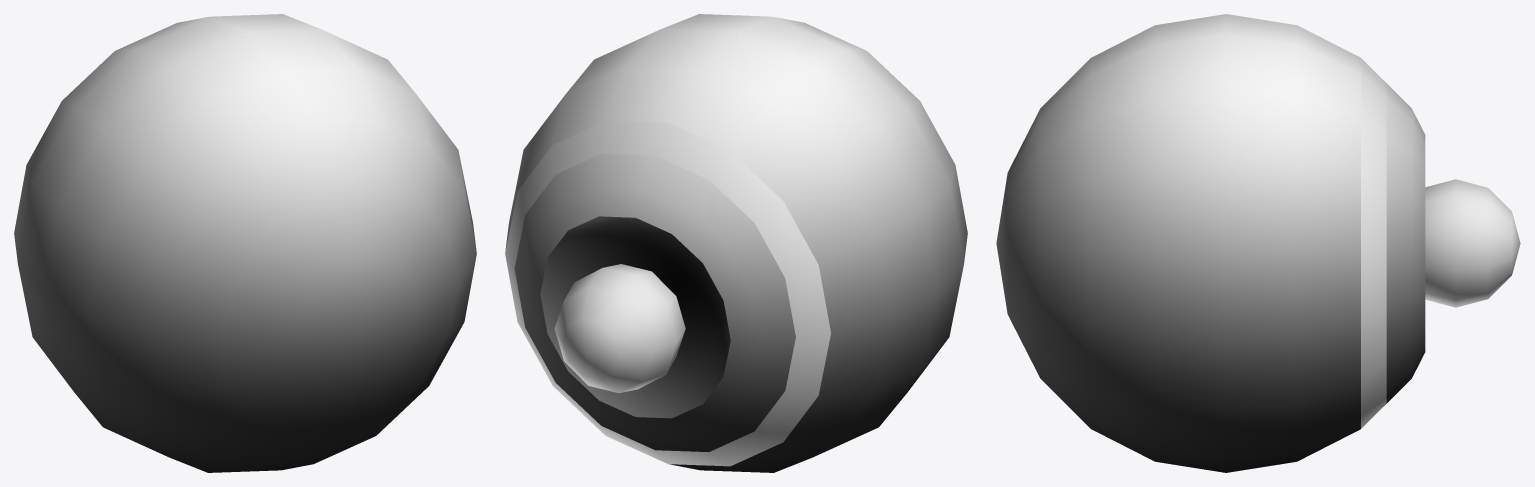
Rendered from Trigger_SpherePL_1_1.fbx.
3 renders of one model, left to right at view 1: azimuth 30°, elevation 25°; view 2: azimuth 150°, elevation 25°; view 3: azimuth 270°, elevation 25°, orthographic.
Parts seen in each view (by area): view 1: Trigger_SpherePL_1_1; view 2: Trigger_SpherePL_1_1; view 3: Trigger_SpherePL_1_1.
Boxes of the visible parts, x1=… form: Trigger_SpherePL_1_1: x1=14, y1=14, x2=476, y2=472; Trigger_SpherePL_1_1: x1=505, y1=14, x2=967, y2=472; Trigger_SpherePL_1_1: x1=996, y1=14, x2=1520, y2=472.
Bounding box in the file's own units: 128 × 128 × 146.
Materials: 2 (1 with a texture image).
